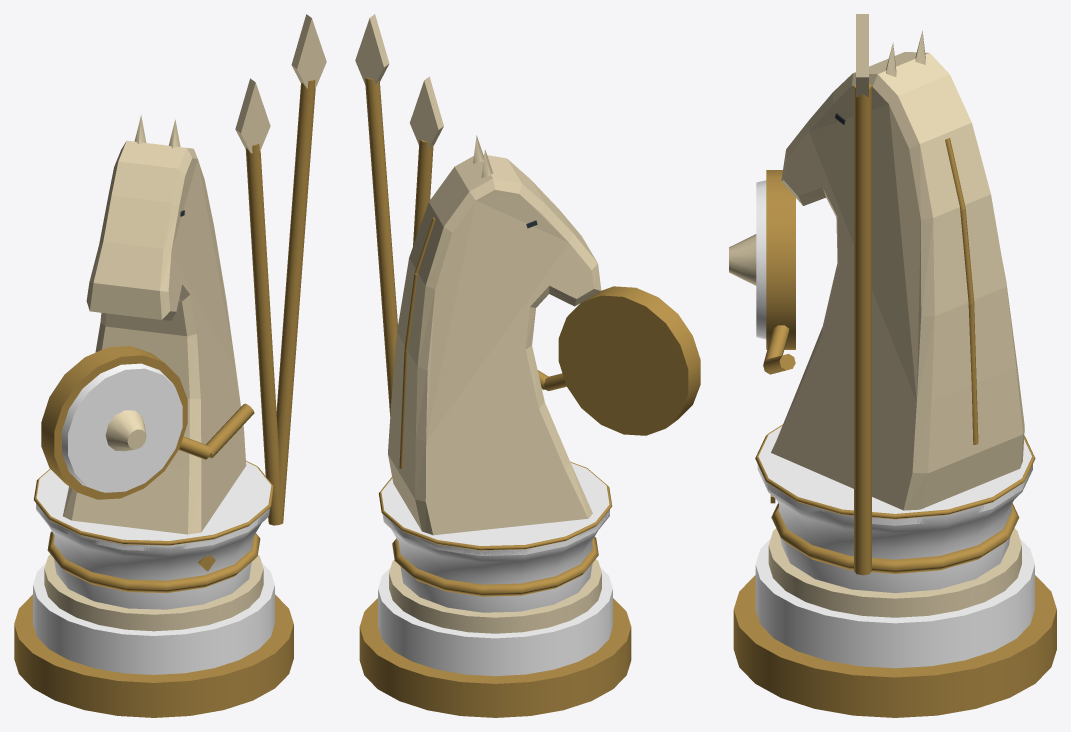
The model's file is numidianCavalry.glb.
3 renders of one model, left to right at view 1: azimuth 30°, elevation 25°; view 2: azimuth 150°, elevation 25°; view 3: azimuth 270°, elevation 25°, orthographic. The views are drawn at different scales.
Visible parts, largest first — view 1: Continuous ivory knight bust, Trim plinth, Javelin shaft (×2), Enamel base, Round enamel shield, Low enamel knight seat, Solid enamel socket, Ivory base bead, Round shield rim, Leaf point (×2), Trim seat bead, Gilt socket rim (+2 smaller); view 2: Continuous ivory knight bust, Round shield rim, Trim plinth, Enamel base, Low enamel knight seat, Javelin shaft (×2), Solid enamel socket, Ivory base bead, Leaf point (×2), Trim seat bead, Gilt socket rim; view 3: Continuous ivory knight bust, Trim plinth, Enamel base, Low enamel knight seat, Javelin shaft, Ivory base bead, Solid enamel socket, Round shield rim, Trim seat bead, Gilt socket rim, Round enamel shield, Raised boss (+4 smaller).
Part boxes in pixels (box(x1,y1,x2,y2)): Continuous ivory knight bust: box(63, 140, 246, 534); Trim plinth: box(14, 594, 293, 717); Javelin shaft (×2): box(245, 80, 315, 525); Enamel base: box(33, 563, 274, 674); Round enamel shield: box(62, 363, 182, 492); Low enamel knight seat: box(36, 504, 270, 609); Solid enamel socket: box(36, 461, 271, 550); Ivory base bead: box(44, 554, 263, 631); Round shield rim: box(41, 346, 187, 499); Leaf point (×2): box(235, 14, 326, 153); Trim seat bead: box(47, 531, 260, 592); Gilt socket rim: box(34, 461, 274, 545); Continuous ivory knight bust: box(388, 154, 601, 535); Round shield rim: box(558, 286, 700, 435); Trim plinth: box(359, 598, 631, 717); Enamel base: box(378, 567, 612, 676); Low enamel knight seat: box(382, 510, 609, 612); Javelin shaft (×2): box(365, 77, 433, 416); Solid enamel socket: box(381, 463, 609, 555); Ivory base bead: box(389, 559, 601, 633); Leaf point (×2): box(355, 14, 443, 149); Trim seat bead: box(392, 537, 598, 596); Gilt socket rim: box(378, 461, 612, 550); Continuous ivory knight bust: box(771, 51, 1024, 510); Trim plinth: box(733, 575, 1056, 717); Enamel base: box(755, 539, 1034, 668); Low enamel knight seat: box(757, 464, 1032, 593); Javelin shaft: box(854, 83, 871, 575); Ivory base bead: box(768, 528, 1021, 617); Solid enamel socket: box(758, 426, 1031, 525); Round shield rim: box(766, 170, 795, 349); Trim seat bead: box(771, 503, 1019, 573); Gilt socket rim: box(755, 424, 1035, 519); Round enamel shield: box(756, 180, 766, 339); Raised boss: box(729, 234, 756, 285).
Size of the model in its own units: 0.6028 by 1.14 by 0.4756.
